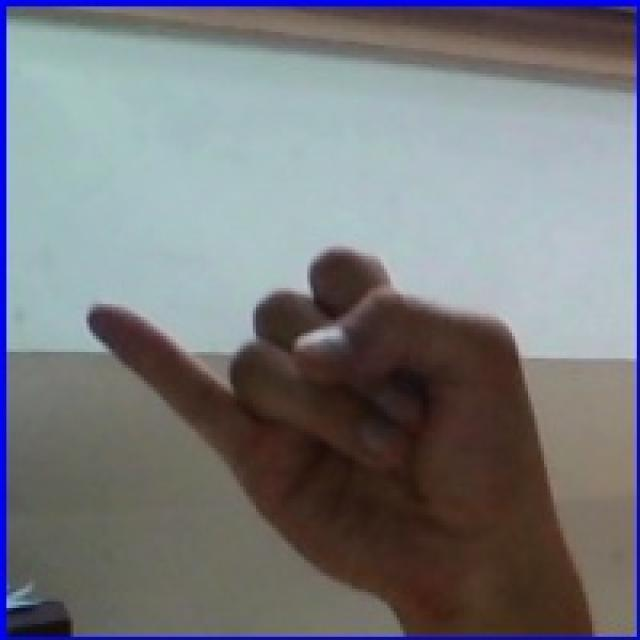J: (44, 164, 584, 601)
